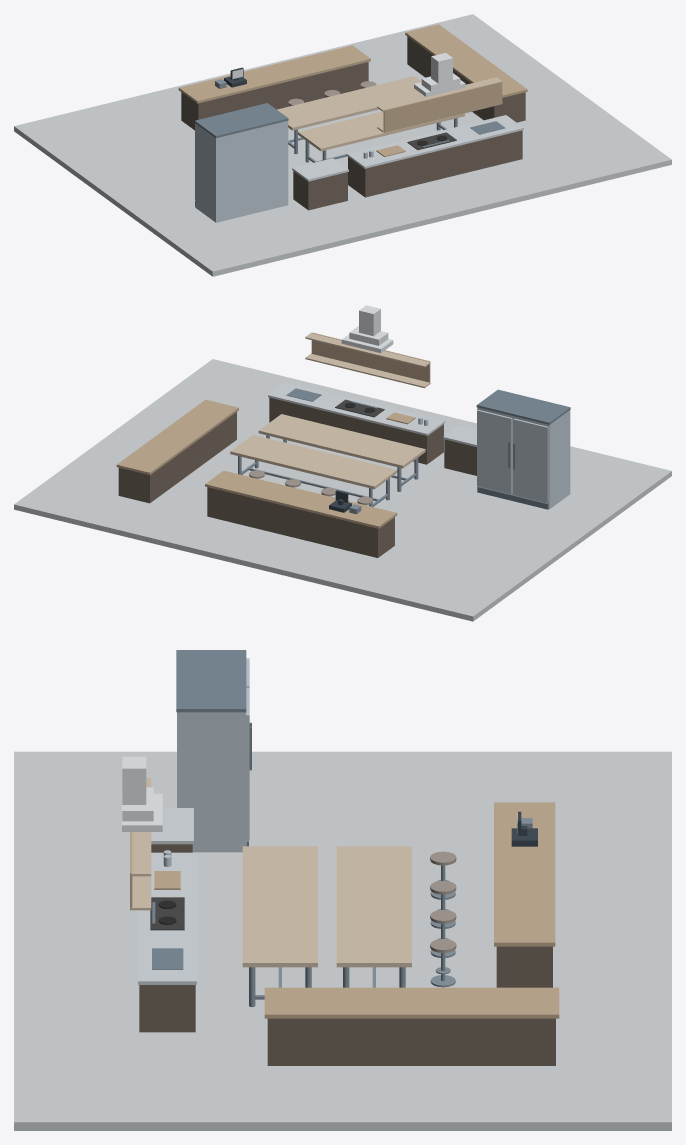
File: kitchen_scene.obj
3 views of the same model, one above another, from view 1: azimuth 30°, elevation 25°; view 2: azimuth 150°, elevation 25°; view 3: azimuth 270°, elevation 25° (orthographic). The views are drawn at different scales.
Visible parts, largest first — view 1: Room_Floor_Walls, Refrigerator, Counter_Back_Cooking, Counter_Front_POS, Counter_Side_Right, Wall_Floating_Shelf, Table_Central_Front, Table_Central_Back, Counter_Back_Corner, Range_Hood, Cooktop_Range, POS_Terminal; view 2: Room_Floor_Walls, Refrigerator, Counter_Front_POS, Counter_Side_Right, Counter_Back_Cooking, Table_Central_Front, Table_Central_Back, Wall_Floating_Shelf, Counter_Back_Corner, Range_Hood; view 3: Room_Floor_Walls, Counter_Side_Right, Refrigerator, Counter_Front_POS, Table_Central_Back, Table_Central_Front, Counter_Back_Cooking, Range_Hood, Wall_Floating_Shelf, Counter_Back_Corner, Cooktop_Range, Bar_Stool_4 (+1 smaller).
Boxes of the visible parts, box(x1,y1,x2,y2) form: Room_Floor_Walls: box(14, 14, 671, 276); Refrigerator: box(194, 103, 288, 222); Counter_Back_Cooking: box(346, 115, 523, 197); Counter_Front_POS: box(178, 45, 370, 130); Counter_Side_Right: box(405, 24, 527, 122); Wall_Floating_Shelf: box(377, 77, 502, 132); Table_Central_Front: box(277, 76, 422, 154); Table_Central_Back: box(298, 111, 464, 162); Counter_Back_Corner: box(292, 158, 348, 210); Range_Hood: box(414, 53, 465, 96); Cooktop_Range: box(407, 132, 456, 150); POS_Terminal: box(215, 67, 246, 88); Room_Floor_Walls: box(14, 359, 671, 621); Refrigerator: box(476, 389, 570, 509); Counter_Front_POS: box(205, 470, 397, 557); Counter_Side_Right: box(116, 399, 238, 503); Counter_Back_Cooking: box(268, 382, 445, 464); Table_Central_Front: box(230, 435, 397, 506); Table_Central_Back: box(258, 414, 425, 491); Wall_Floating_Shelf: box(305, 332, 430, 388); Counter_Back_Corner: box(443, 425, 476, 475); Range_Hood: box(341, 305, 393, 352); Room_Floor_Walls: box(14, 751, 671, 1130); Counter_Side_Right: box(264, 987, 559, 1065); Refrigerator: box(176, 650, 251, 852); Counter_Front_POS: box(494, 802, 555, 987); Table_Central_Back: box(242, 846, 317, 1007); Table_Central_Front: box(336, 846, 411, 987); Counter_Back_Cooking: box(138, 852, 196, 1032); Range_Hood: box(122, 756, 162, 831); Wall_Floating_Shelf: box(130, 777, 151, 910); Counter_Back_Corner: box(151, 808, 193, 852); Cooktop_Range: box(150, 897, 184, 930); Bar_Stool_4: box(430, 939, 456, 987).
Size of the model in its own units: 14 by 3.74 by 10.5.
